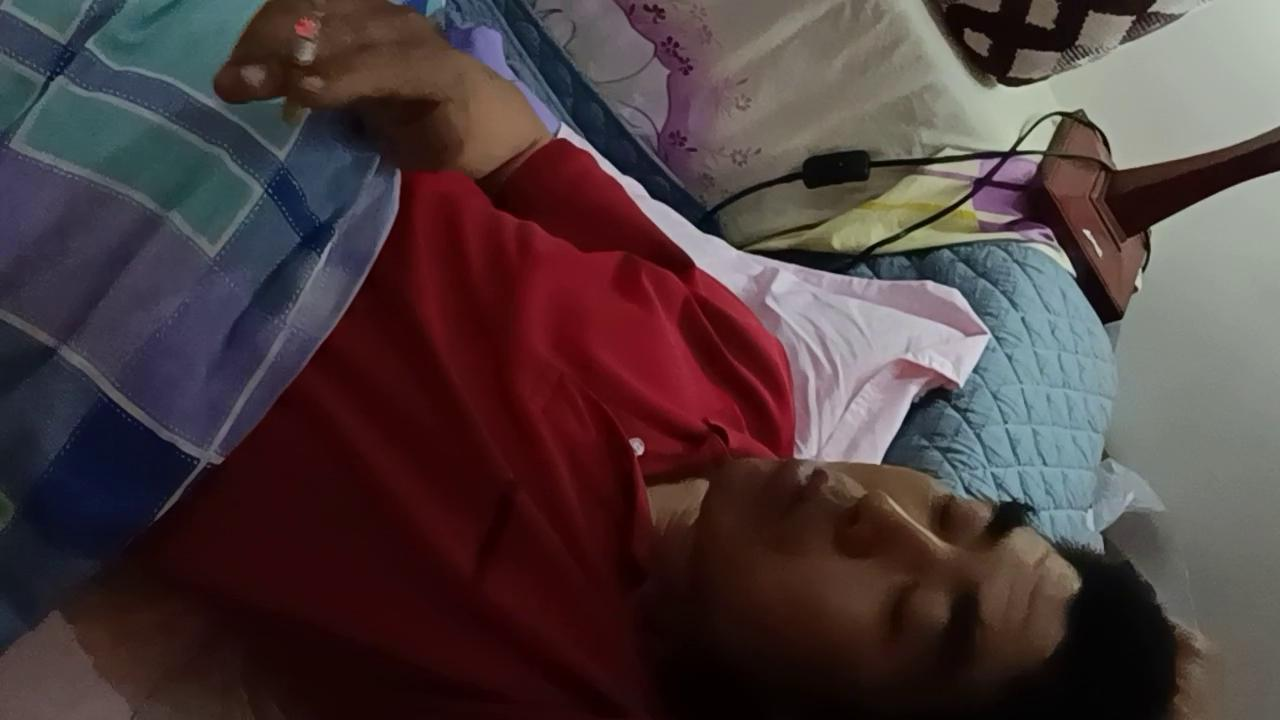smoke: (283, 17, 321, 127)
